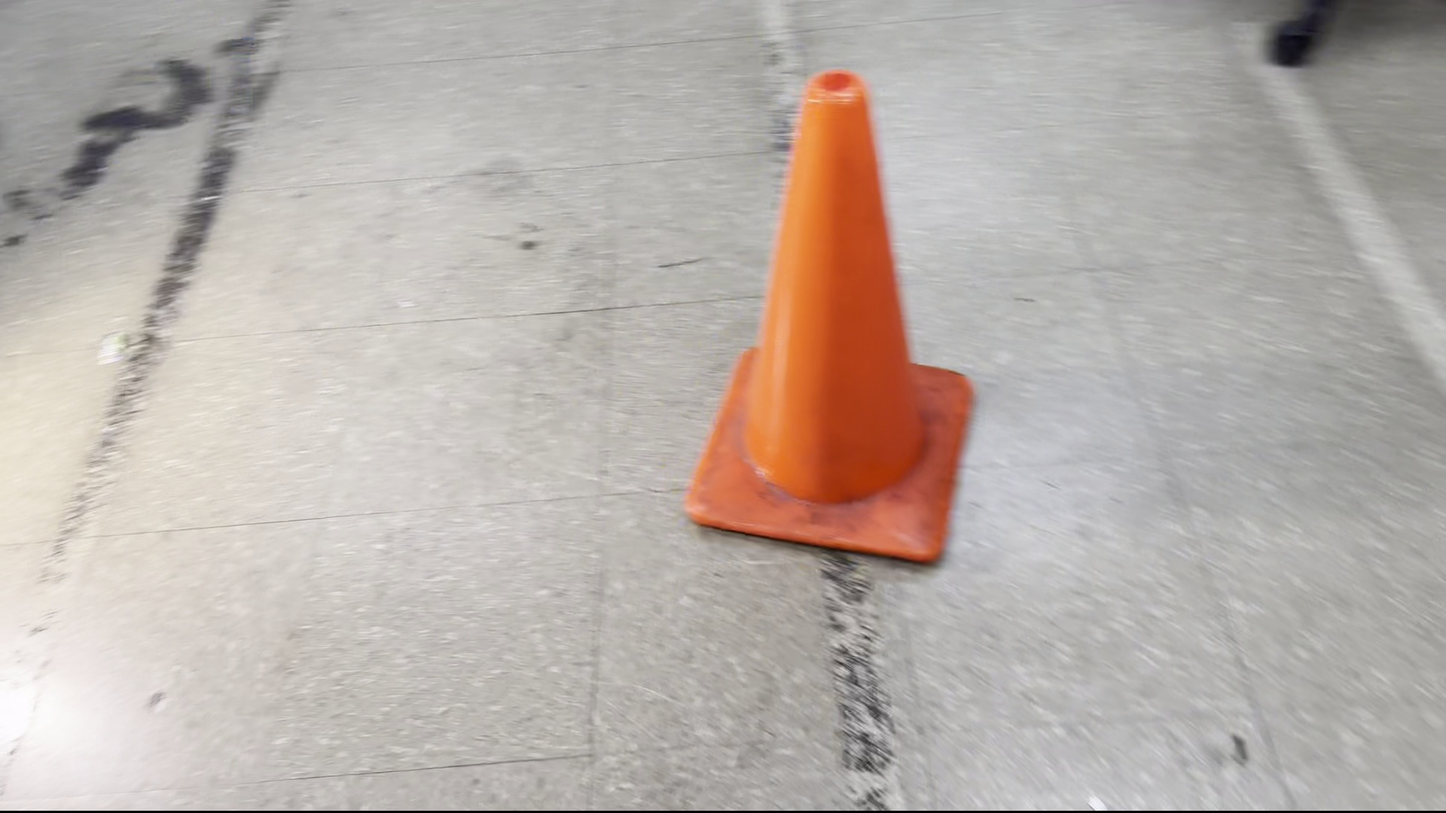traffic_cone: (683, 67, 975, 565)
